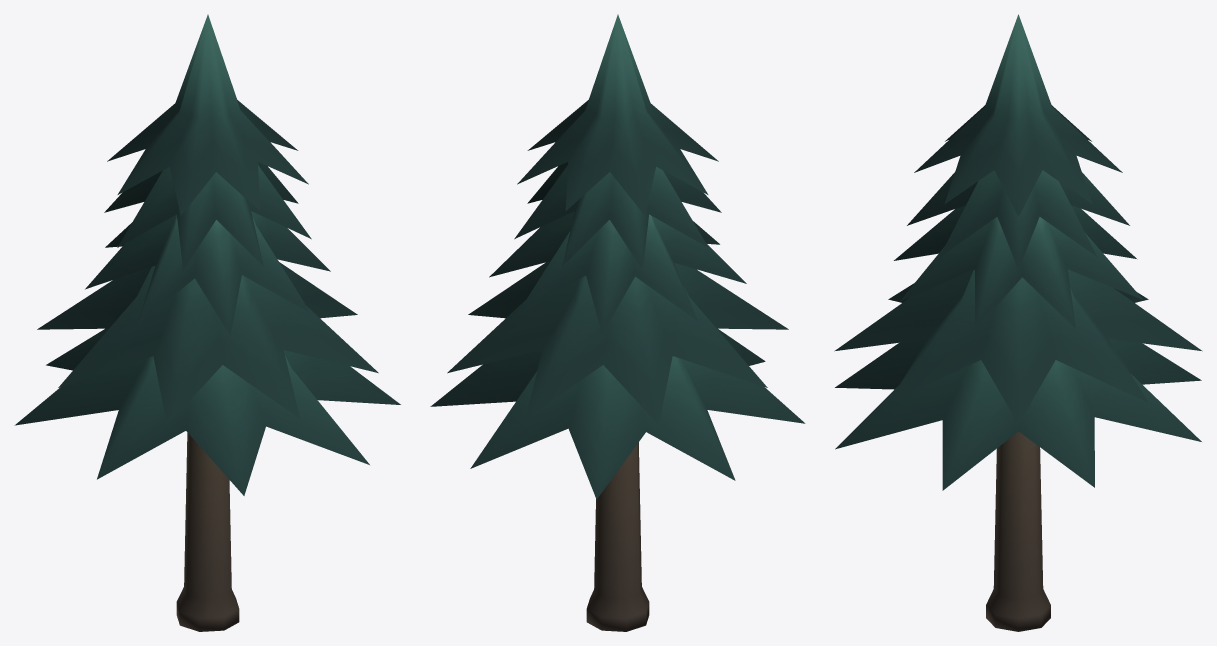
The model's file is Tree_GreenCool.fbx.
3 renders of one model, left to right at view 1: azimuth 30°, elevation 25°; view 2: azimuth 150°, elevation 25°; view 3: azimuth 270°, elevation 25°, orthographic.
Visible parts, largest first — view 1: Tree_Red1; view 2: Tree_Red1; view 3: Tree_Red1.
Boxes of the visible parts, x1,y1,x2,y2 form: Tree_Red1: [14, 14, 400, 631]; Tree_Red1: [430, 14, 805, 631]; Tree_Red1: [834, 14, 1202, 631].
Bounding box in the file's own units: 2.87 × 5.33 × 2.95.
